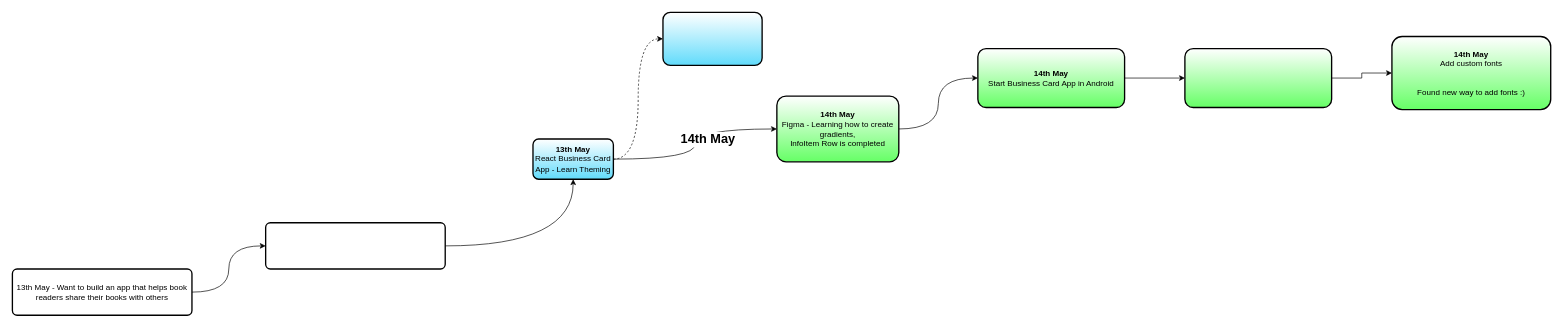
The diagram is 1562 pixels wide and 327 high, and some of its shapes have lost their labels. The shapes that lost their labels are listed below. From the top down, each one's centre as x and y in pixels, then its label:
At [712,38]: "13th May Thinking of creating a theme-switcher for Storybook".
At [1258,78]: "14th May Finish InfoItem".
At [355,245]: "Become an awesome FIgma + React + Android Developer".
